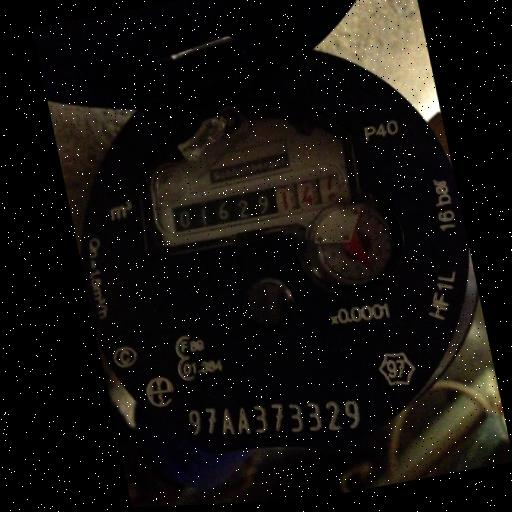0: (176, 205, 194, 231)
1: (273, 181, 301, 214), (193, 201, 214, 229)
2: (233, 192, 254, 221)
4: (294, 177, 322, 209)
6: (213, 196, 235, 225)
7: (316, 173, 341, 205)
9: (252, 187, 275, 217)
border_water_meter_number: (150, 160, 353, 243)
